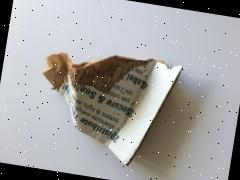cardboard: (6, 6, 223, 180)
